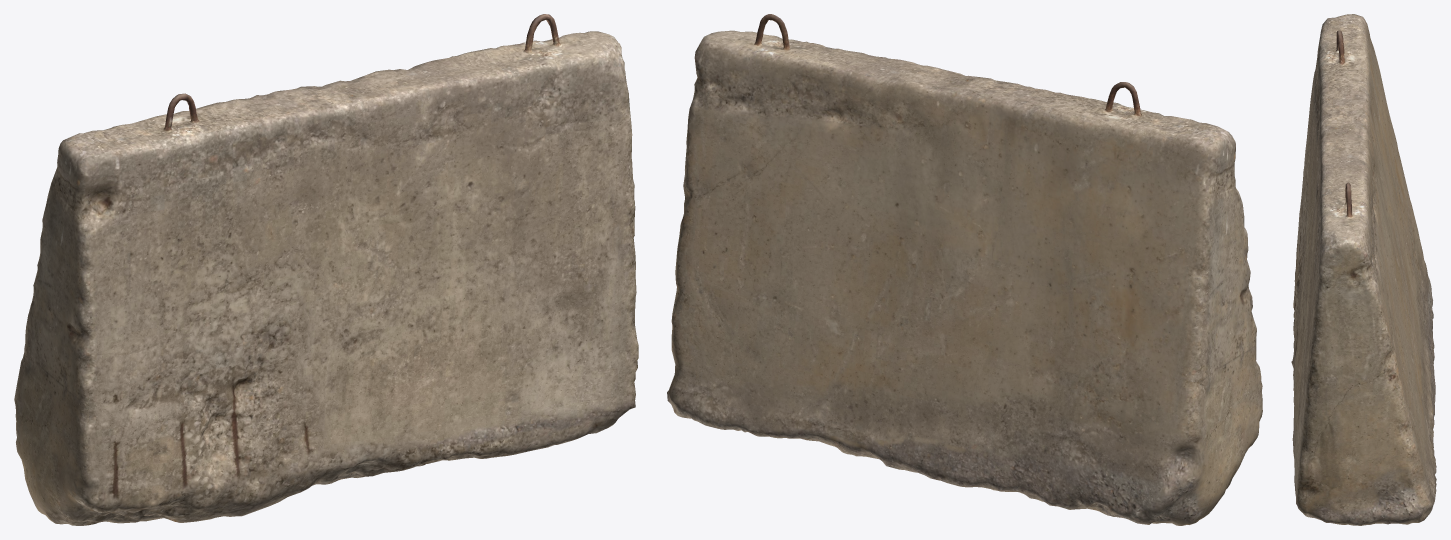
File: concrete_road_barrier_02.gltf
3 views of the same model, side by side, from view 1: azimuth 30°, elevation 25°; view 2: azimuth 150°, elevation 25°; view 3: azimuth 270°, elevation 25° (orthographic). The views are drawn at different scales.
Parts seen in each view (by area): view 1: concrete_road_barrier_02; view 2: concrete_road_barrier_02; view 3: concrete_road_barrier_02.
Boxes of the visible parts, <box> form: concrete_road_barrier_02: <box>14,14,638,525</box>; concrete_road_barrier_02: <box>667,14,1262,525</box>; concrete_road_barrier_02: <box>1291,14,1436,525</box>.
Bounding box in the file's own units: 1.56 × 1.11 × 0.4421.
1 material, 1 textured.
